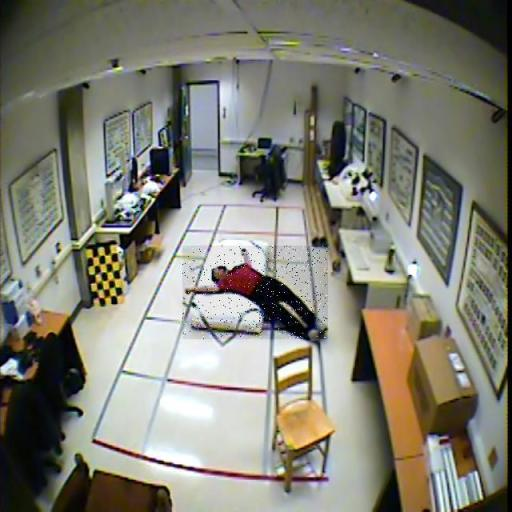Fall: (183, 246, 329, 339)
